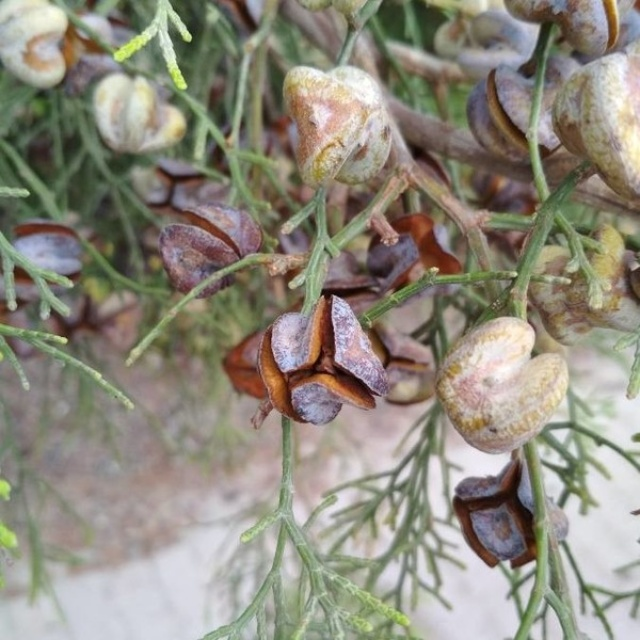obstacle: (223, 79, 566, 607)
